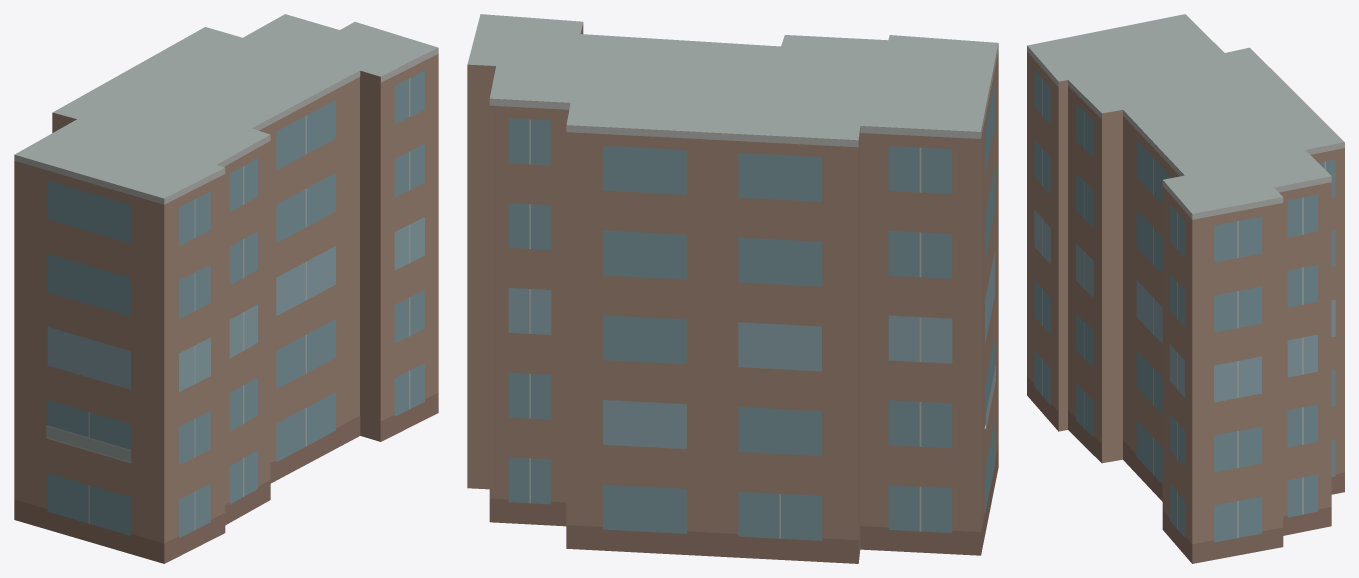
Rendered from survey-upis-32937660.glb.
The picture shows the model from 3 angles, left to right: view 1: azimuth 30°, elevation 25°; view 2: azimuth 150°, elevation 25°; view 3: azimuth 270°, elevation 25°; orthographic projection. The views are drawn at different scales.
Parts seen in each view (by area): view 1: survey-upis-32937660.tmp; view 2: survey-upis-32937660.tmp; view 3: survey-upis-32937660.tmp.
Boxes of the visible parts, box(x1,y1,x2,y2) form: survey-upis-32937660.tmp: box(14, 14, 438, 563); survey-upis-32937660.tmp: box(467, 14, 998, 563); survey-upis-32937660.tmp: box(1027, 14, 1344, 563).
Bounding box in the file's own units: 18.03 × 14.7 × 12.11.
